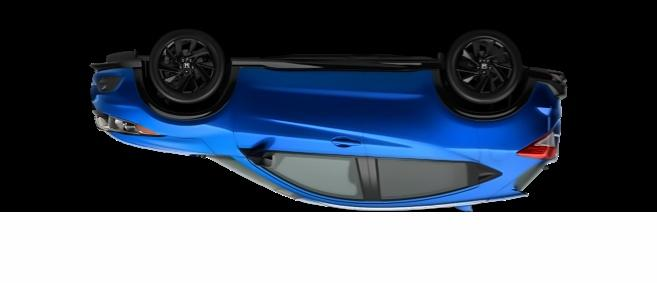Driver-s door - -F-R-: (240, 63, 367, 213)
Fender - -F-R-: (154, 58, 239, 151)
Fender - -R-R-: (440, 68, 556, 169)
Front bumper: (84, 54, 152, 110)
Headlight - -R-: (88, 104, 168, 145)
Passenger-s door - -R-R-: (365, 63, 486, 210)
Rear bumper: (503, 64, 577, 119)
Rear light - -R-: (513, 128, 565, 162)
Side bumper - -R-: (229, 48, 444, 77)
Side mirror - -R-: (244, 147, 276, 170)
